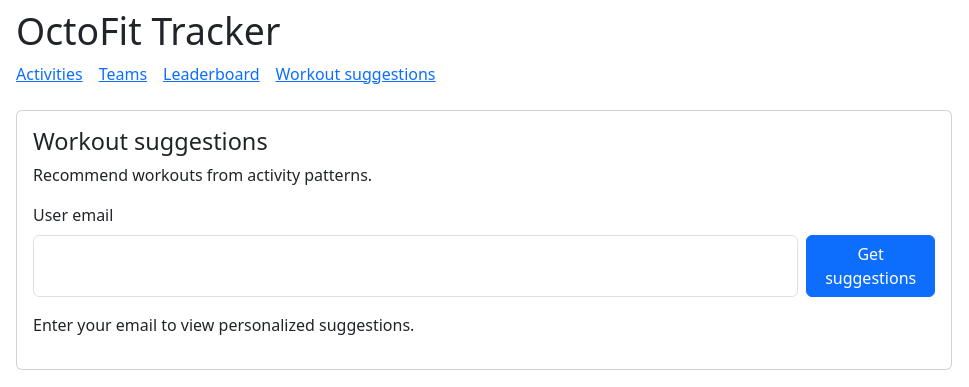
it: OctoFit presentation contract › /workouts › announces a loading state while the API request is pending
The width and height of the screenshot is (969, 387).
Type "mona@example.com" into the field labelled "User email" at (416, 266), box [33,235,798,297]
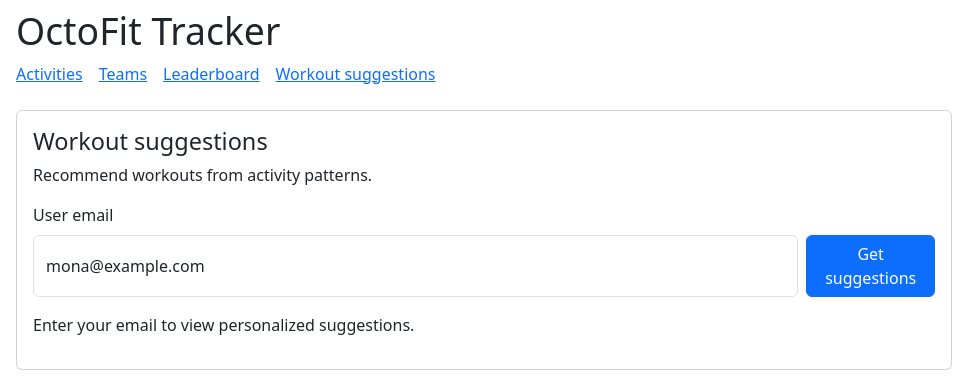
Click the button "Get suggestions" at (871, 266), box [806,235,935,297]
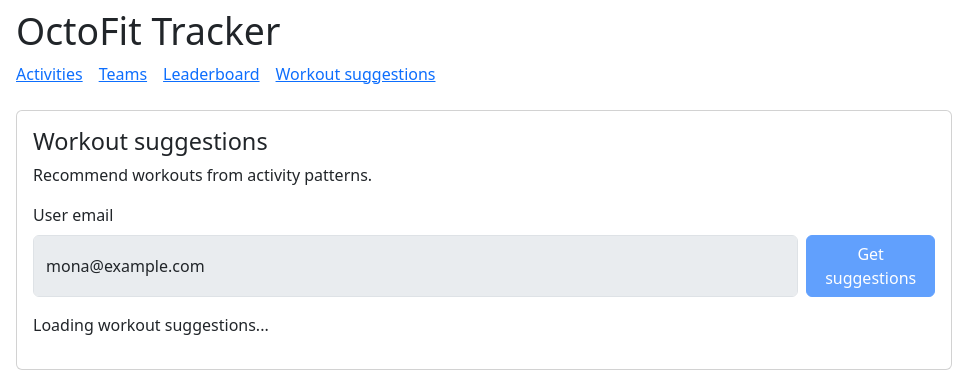
expect the message shows "Loading": met, box [33,314,269,336]
